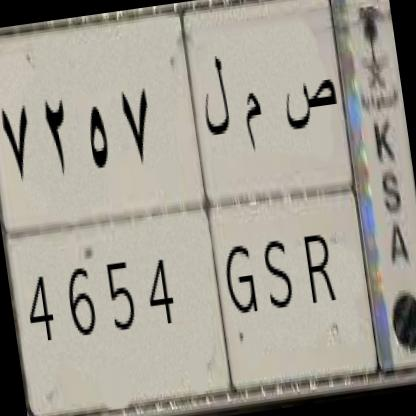english: (0, 158, 389, 416)
